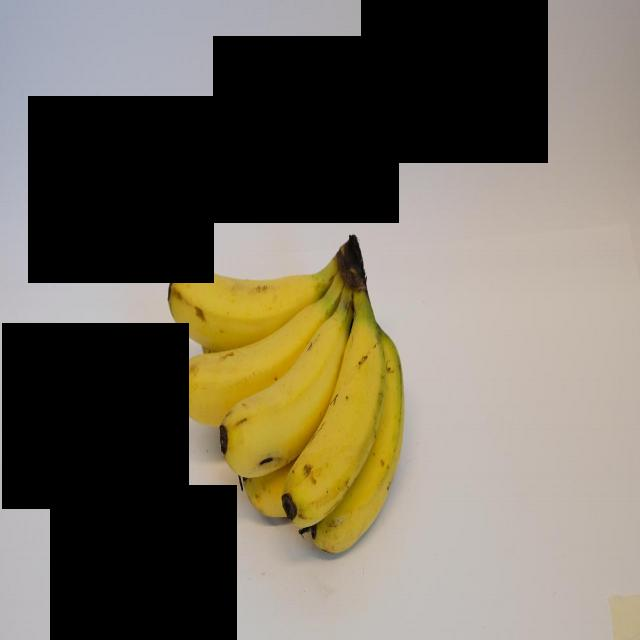banana: (219, 309, 348, 489), (312, 322, 410, 557), (281, 321, 385, 536), (172, 290, 335, 427), (165, 262, 334, 350)
